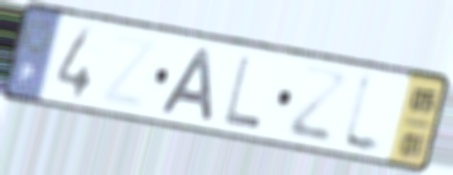4: (53, 22, 96, 102)
A: (154, 45, 216, 125)
L: (337, 66, 388, 162), (221, 52, 266, 132)
Z: (283, 62, 351, 147), (96, 29, 162, 113)
